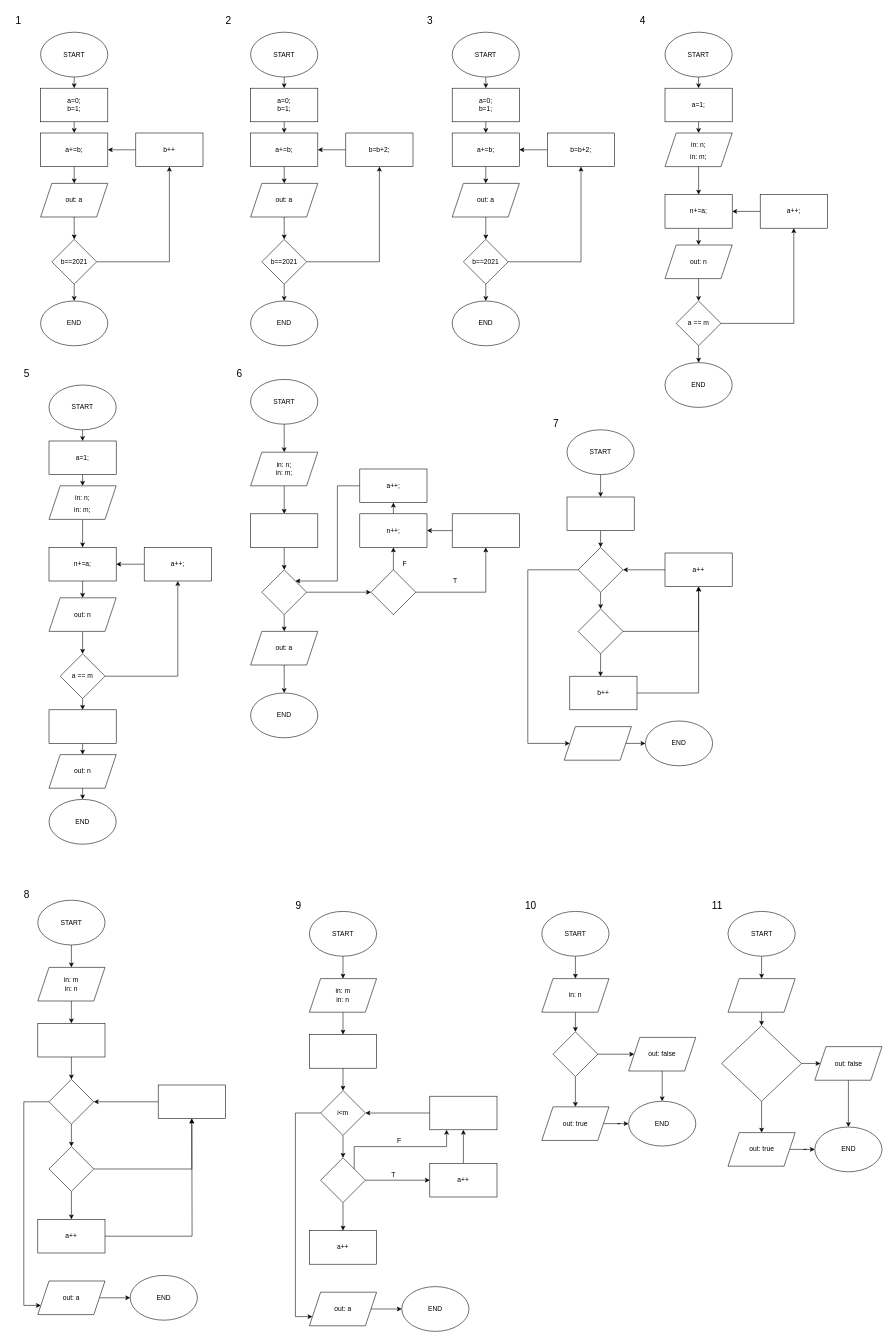
The diagram is 892 pixels wide and 1341 high, and some of its shapes have lost their labels. Each missing label, with the centre of its shape:
"a&7=0" belongs at pixel 600 631.
"a+=n;" belongs at pixel 485 530.
"a=0" belongs at pixel 71 1040.
"a=0 b=0" belongs at pixel 600 513.
"a=0, i=n" belongs at pixel 343 1051.
"a=0;" belongs at pixel 284 530.
"a==2021" belongs at pixel 600 569.
"i++" belongs at pixel 463 1113.
"in: k in: m in: n" belongs at pixel 761 995.
"k+m>n && k+n>m && m+n>k" belongs at pixel 761 1063.
"n < m" belongs at pixel 284 592.
"n%5=0" belongs at pixel 393 592.
"n&(n-1)==0" belongs at pixel 575 1054.
"n&7=0" belongs at pixel 71 1168.
"n++" belongs at pixel 191 1101.
"n==m" belongs at pixel 71 1101.
"n=n/(n-m)" belongs at pixel 82 726.
"out: b" belongs at pixel 597 743.
"sqrt(i)* sqrt(i)==i" belongs at pixel 342 1180.
